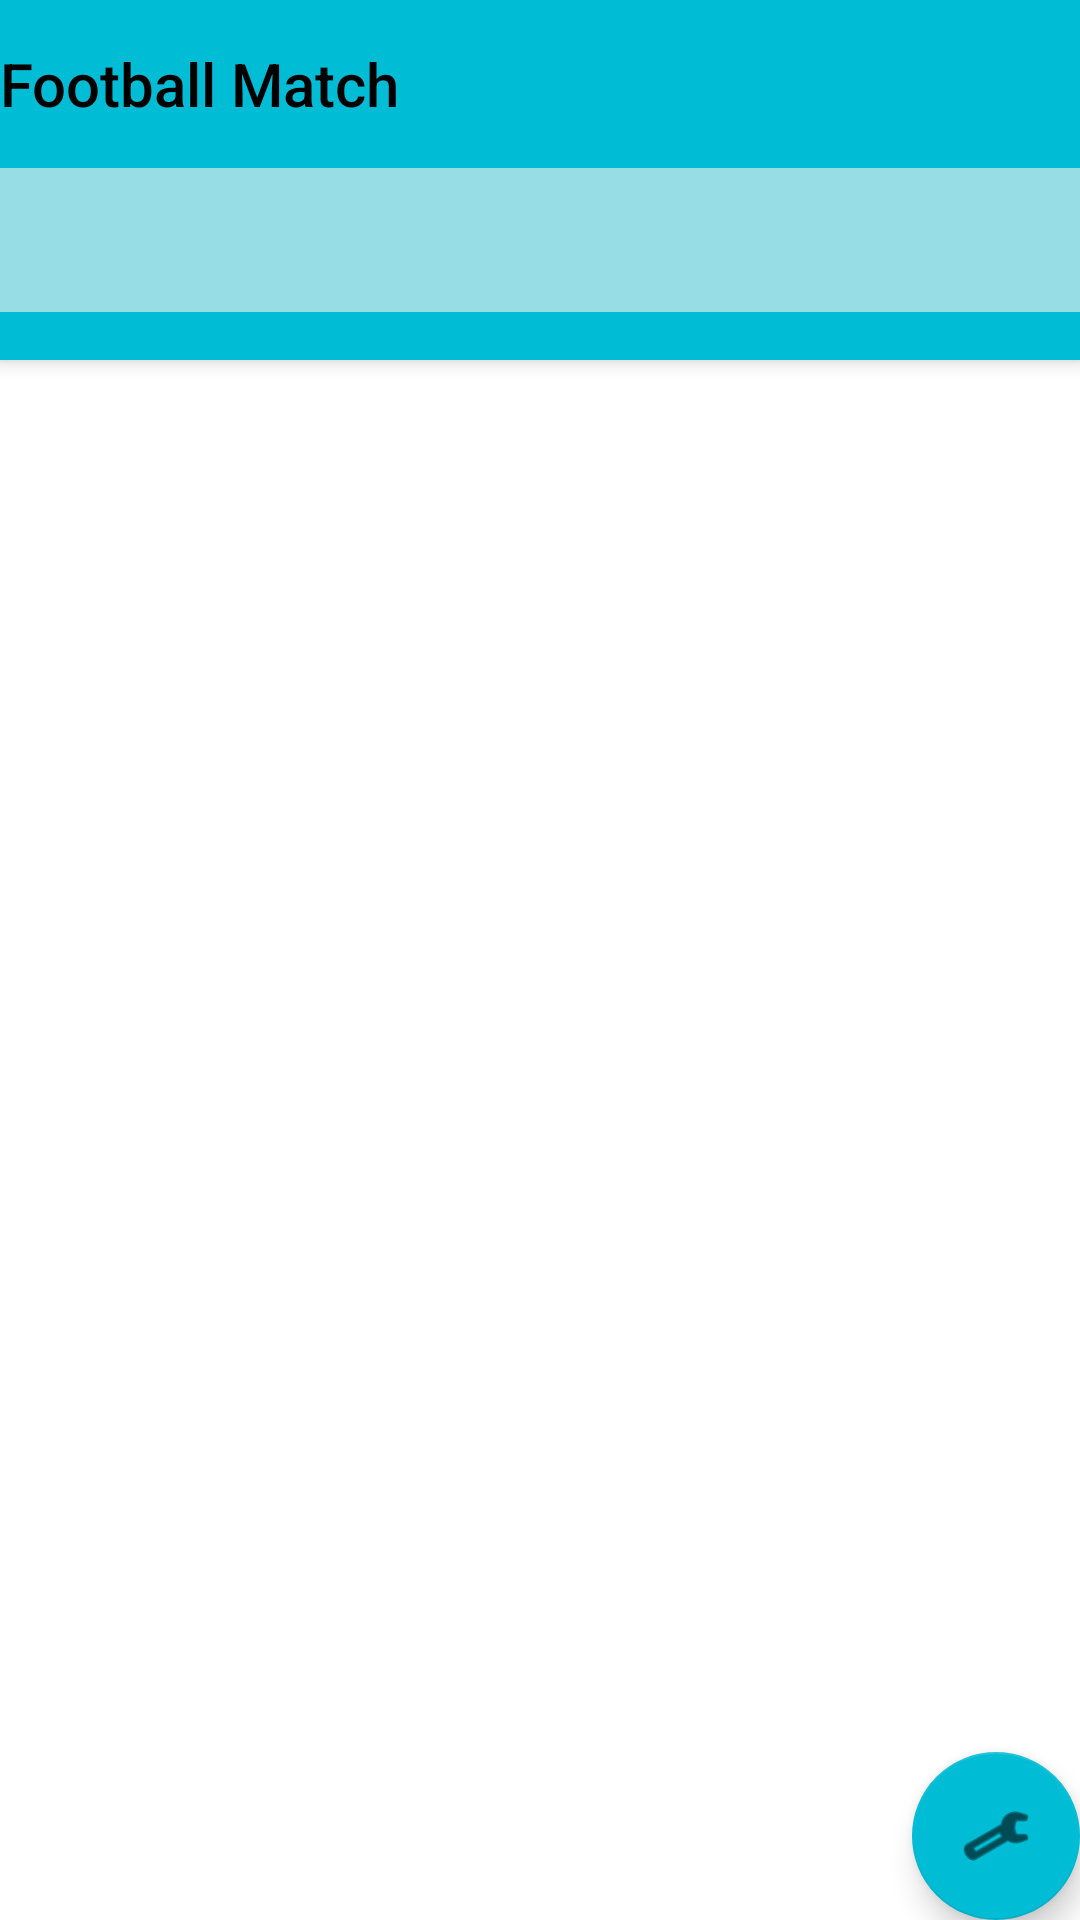

Locate icon controls on the screen. Image size 1080 x 1920, boxes as (x1, y1, x2, y2).
manage: (912, 1752, 1080, 1920)
